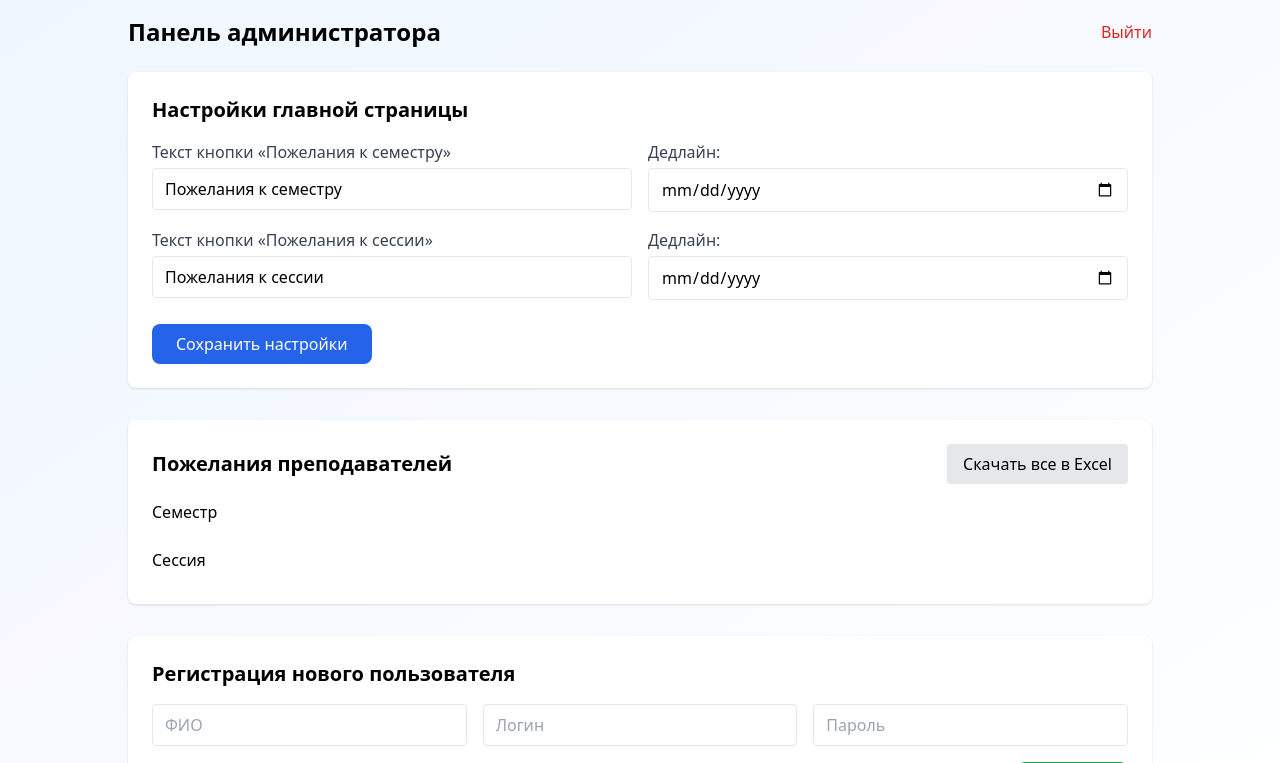
AdminDashboard unit › register success flow
This screenshot has width=1280, height=763.
Check: the heading "Регистрация нового пользователя" is shown, box x1=152 y1=660 x2=515 y2=687
Type "Иван Иванов" into the field with placeholder "ФИО" at (309, 725), box x1=152 y1=704 x2=467 y2=746
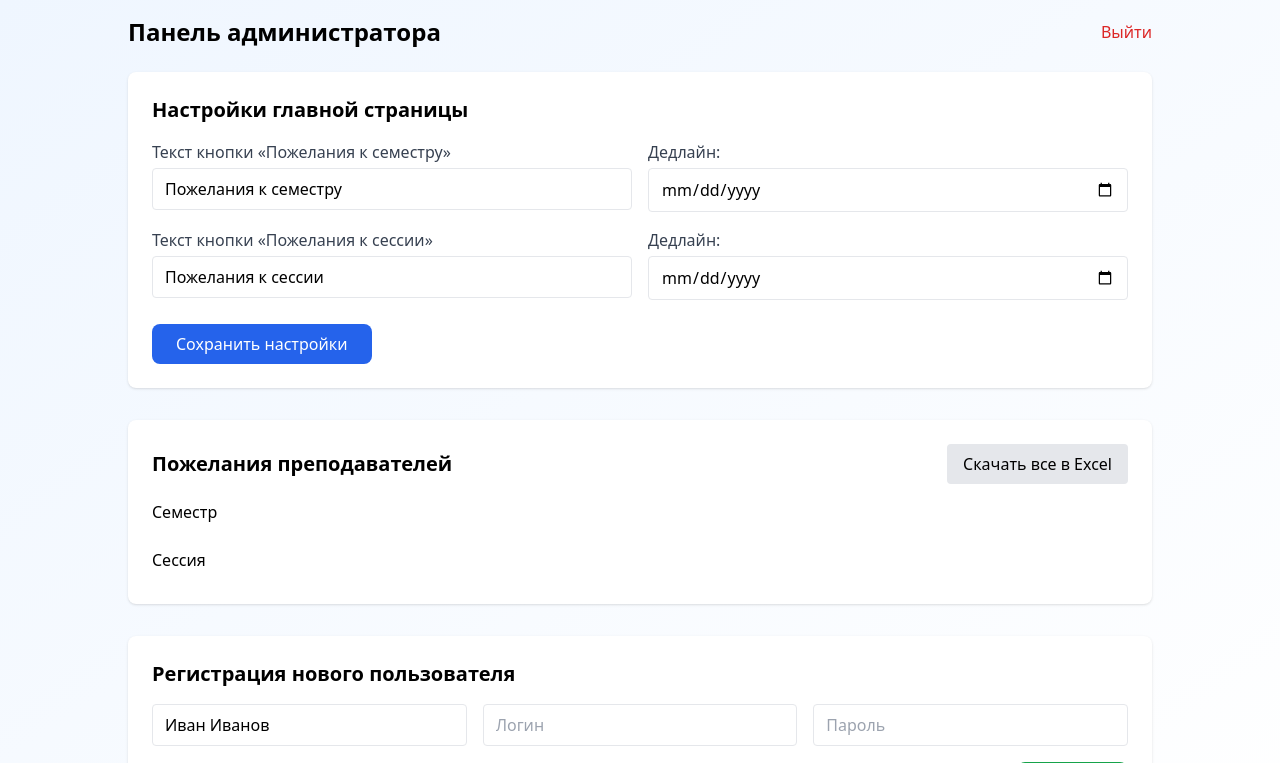
Type "ivan" into the field with placeholder "Логин" at (640, 725), box x1=483 y1=704 x2=797 y2=746
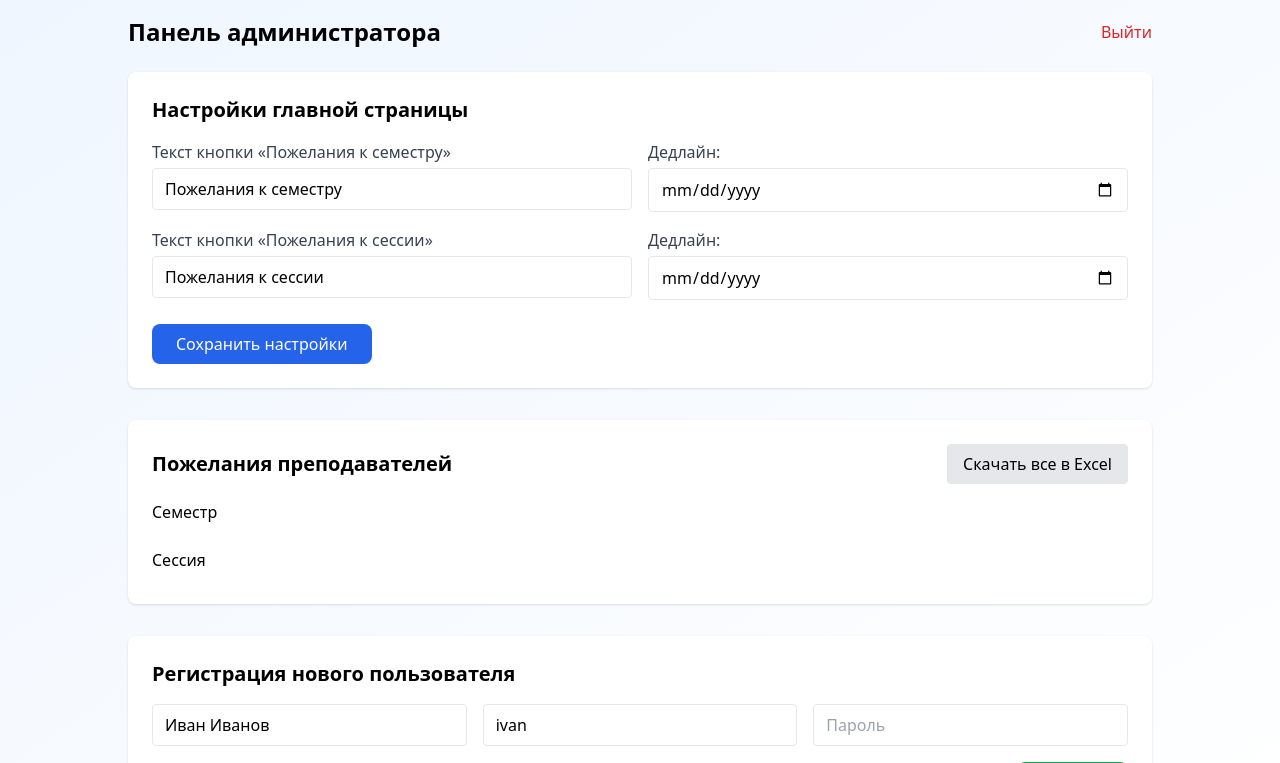
Type "123456" into the password field with placeholder "Пароль" at (971, 725), box x1=813 y1=704 x2=1128 y2=746
(page scrolled)
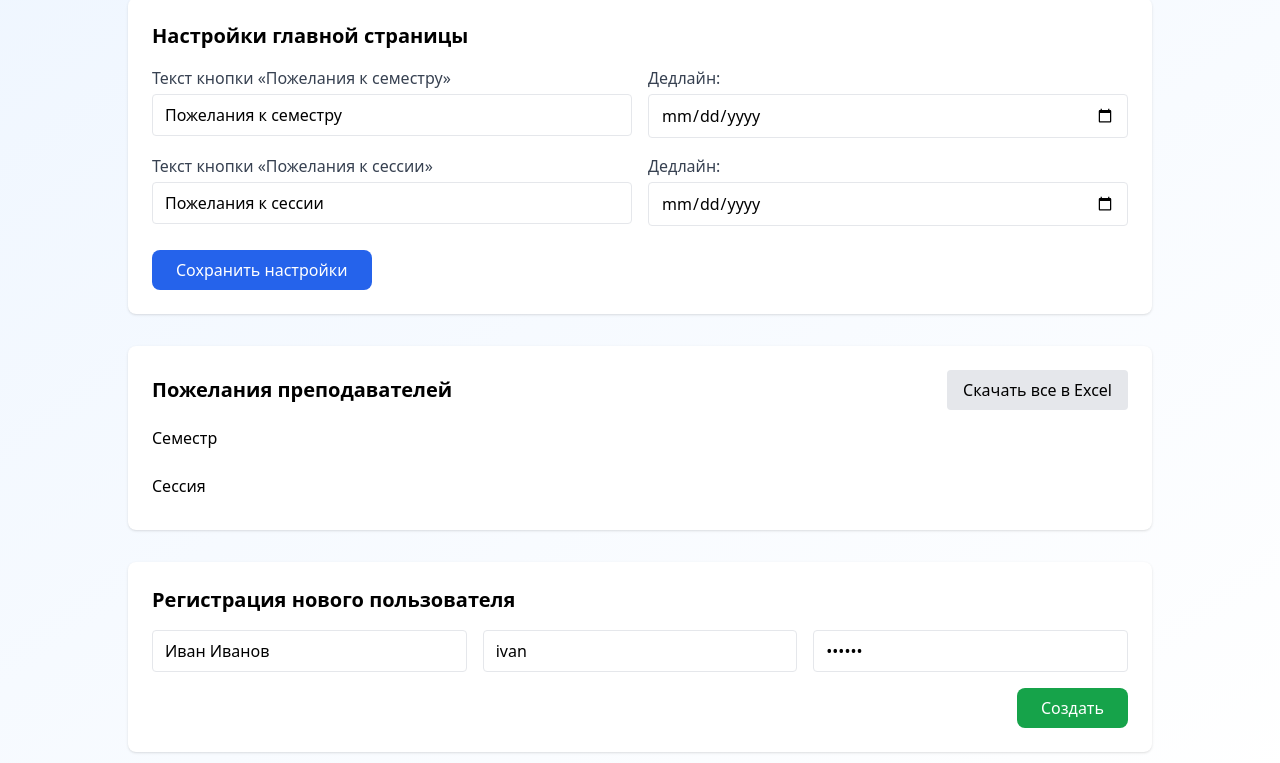
Click the button "Создать" at (1072, 708), box x1=1017 y1=688 x2=1128 y2=728
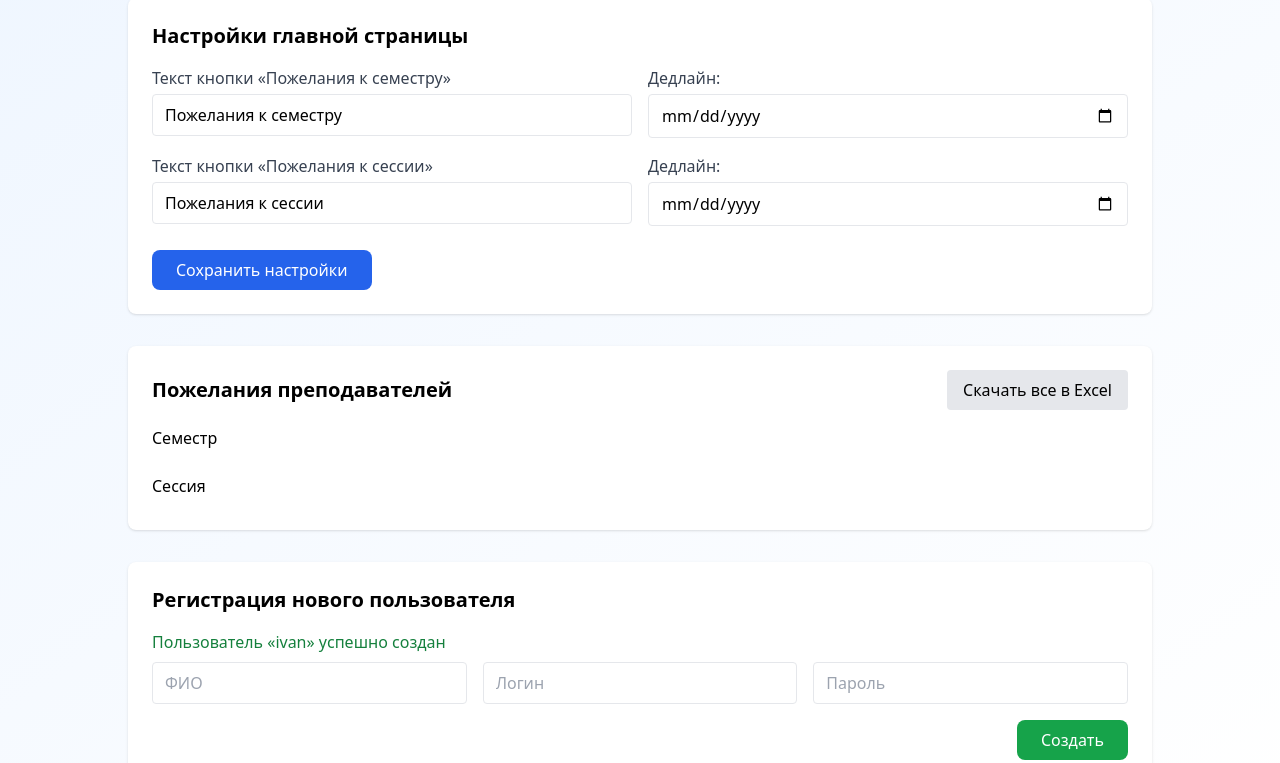
Check: the text "Пользователь «ivan» успешно создан" is shown, box x1=152 y1=631 x2=446 y2=653
